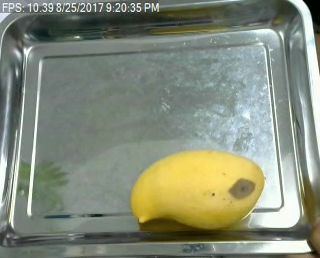Mango: (131, 147, 269, 237)
